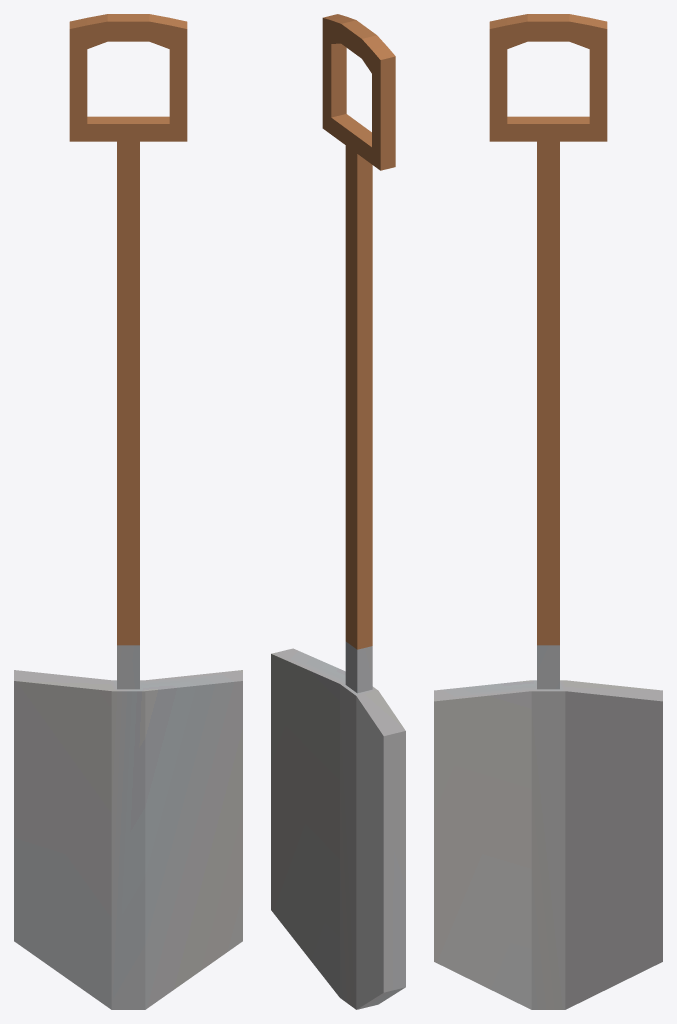
Rendered from CHAHIN_SHOVEL.obj.
3 views of the same model, side by side, from view 1: azimuth 90°, elevation 25°; view 2: azimuth 210°, elevation 25°; view 3: azimuth 270°, elevation 25° (orthographic).
Visible parts, largest first — view 1: SHOVEL_Cube.020; view 2: SHOVEL_Cube.020; view 3: SHOVEL_Cube.020.
Boxes of the visible parts, box(x1,y1,x2,y2) form: SHOVEL_Cube.020: box(14, 14, 242, 1009); SHOVEL_Cube.020: box(271, 14, 405, 1009); SHOVEL_Cube.020: box(434, 14, 662, 1009).
Size of the model in its own units: 0.123 by 2.67 by 0.5607.
Materials: 1 (1 with a texture image).
